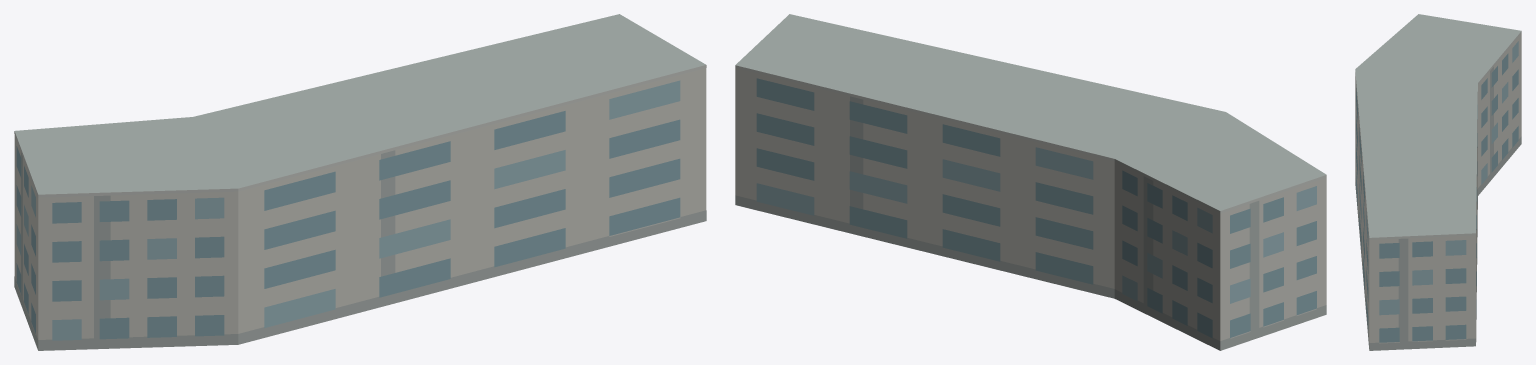
Rendered from residential-7d96d6a5-4068-4ebf-b066-e14c2615fcbe.glb.
3 renders of one model, left to right at view 1: azimuth 30°, elevation 25°; view 2: azimuth 150°, elevation 25°; view 3: azimuth 270°, elevation 25°, orthographic. The views are drawn at different scales.
Visible parts, largest first — view 1: residential-7d96d6a5-4068-4ebf-b066-e14c2615fcbe.tmp; view 2: residential-7d96d6a5-4068-4ebf-b066-e14c2615fcbe.tmp; view 3: residential-7d96d6a5-4068-4ebf-b066-e14c2615fcbe.tmp.
Boxes of the visible parts, box(x1,y1,x2,y2) form: residential-7d96d6a5-4068-4ebf-b066-e14c2615fcbe.tmp: box(14, 14, 706, 350); residential-7d96d6a5-4068-4ebf-b066-e14c2615fcbe.tmp: box(735, 14, 1326, 350); residential-7d96d6a5-4068-4ebf-b066-e14c2615fcbe.tmp: box(1355, 14, 1521, 350).
Bounding box in the file's own units: 51.83 × 12.2 × 16.3.
